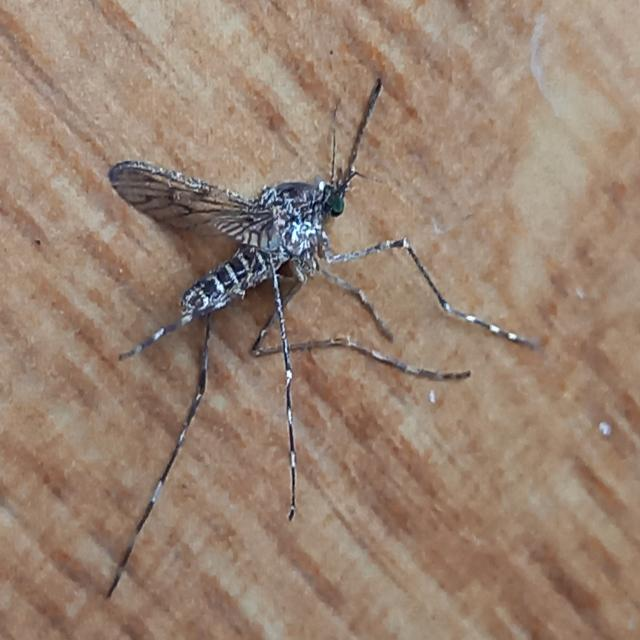albopictus: (92, 60, 531, 599)
